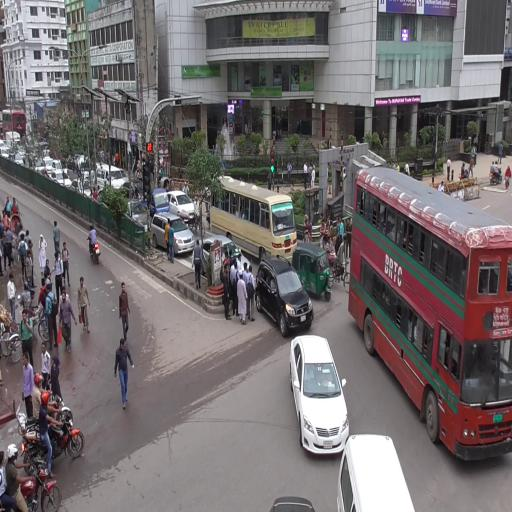bus: (346, 164, 512, 464), (210, 173, 299, 265)
car: (287, 334, 352, 462), (151, 211, 198, 258)
motorbike: (18, 392, 89, 480), (1, 447, 64, 512), (86, 221, 104, 269)
rickshaw: (319, 232, 352, 299), (1, 304, 26, 367), (10, 215, 24, 264)
suv: (254, 254, 316, 339)
three wheelers CNG: (292, 240, 336, 306)
